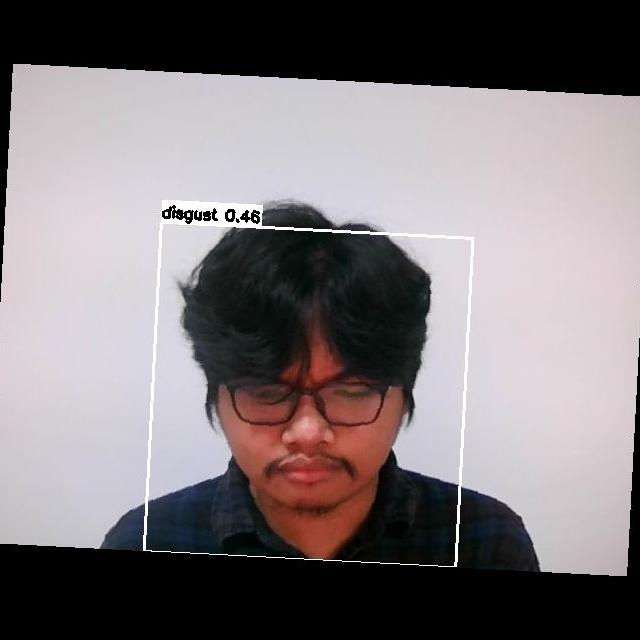Angry: (210, 347, 399, 487)
